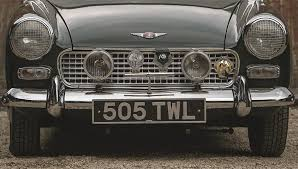number_plate: (90, 98, 213, 128)
